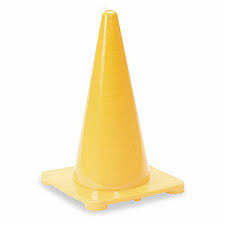cones: (41, 13, 186, 208)
